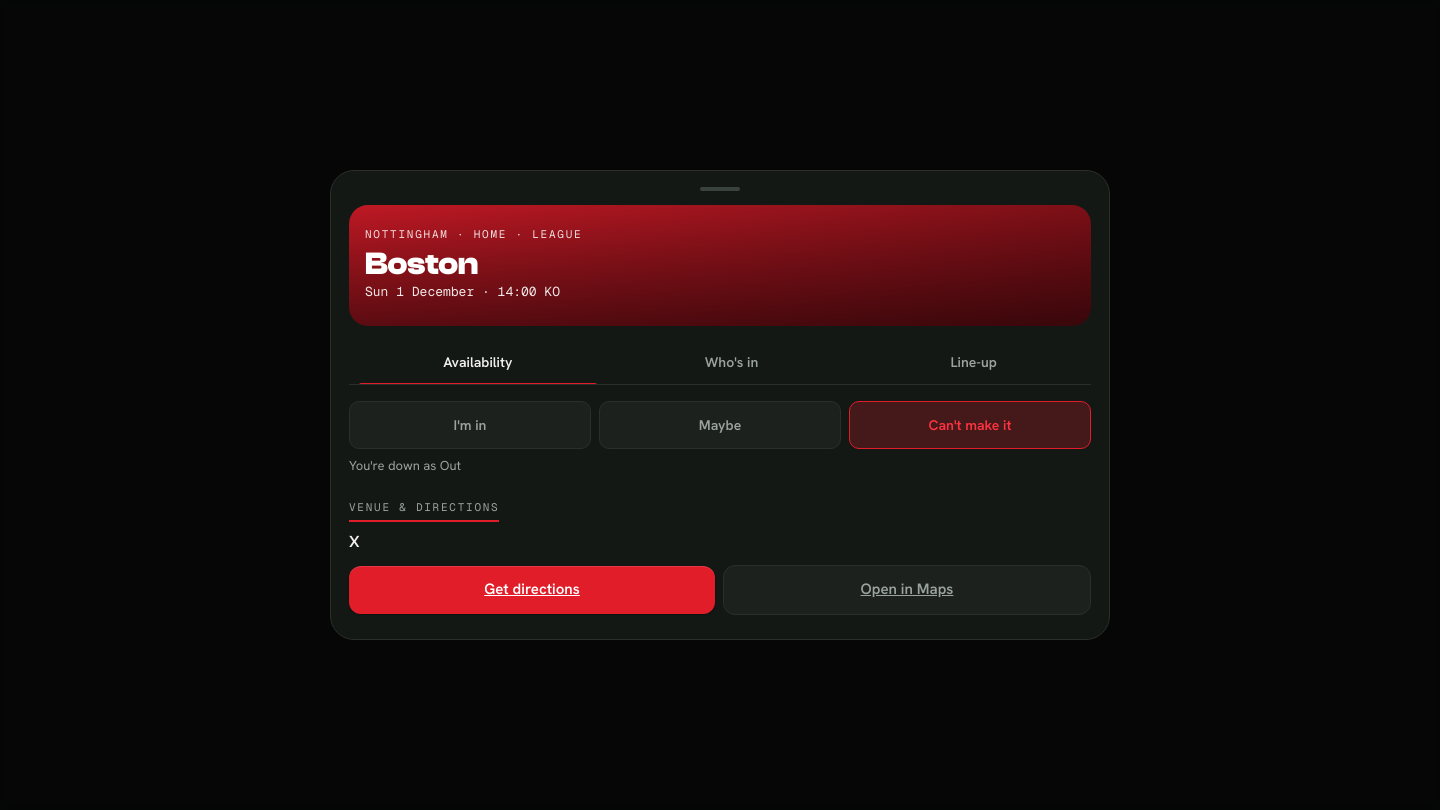
Test: FixtureDetail — Who's in tab › a failed fetch says so — not "Available · 0"
The image size is (1440, 810).
Click the tab "Who's in": (732, 363) [611, 342, 852, 384]
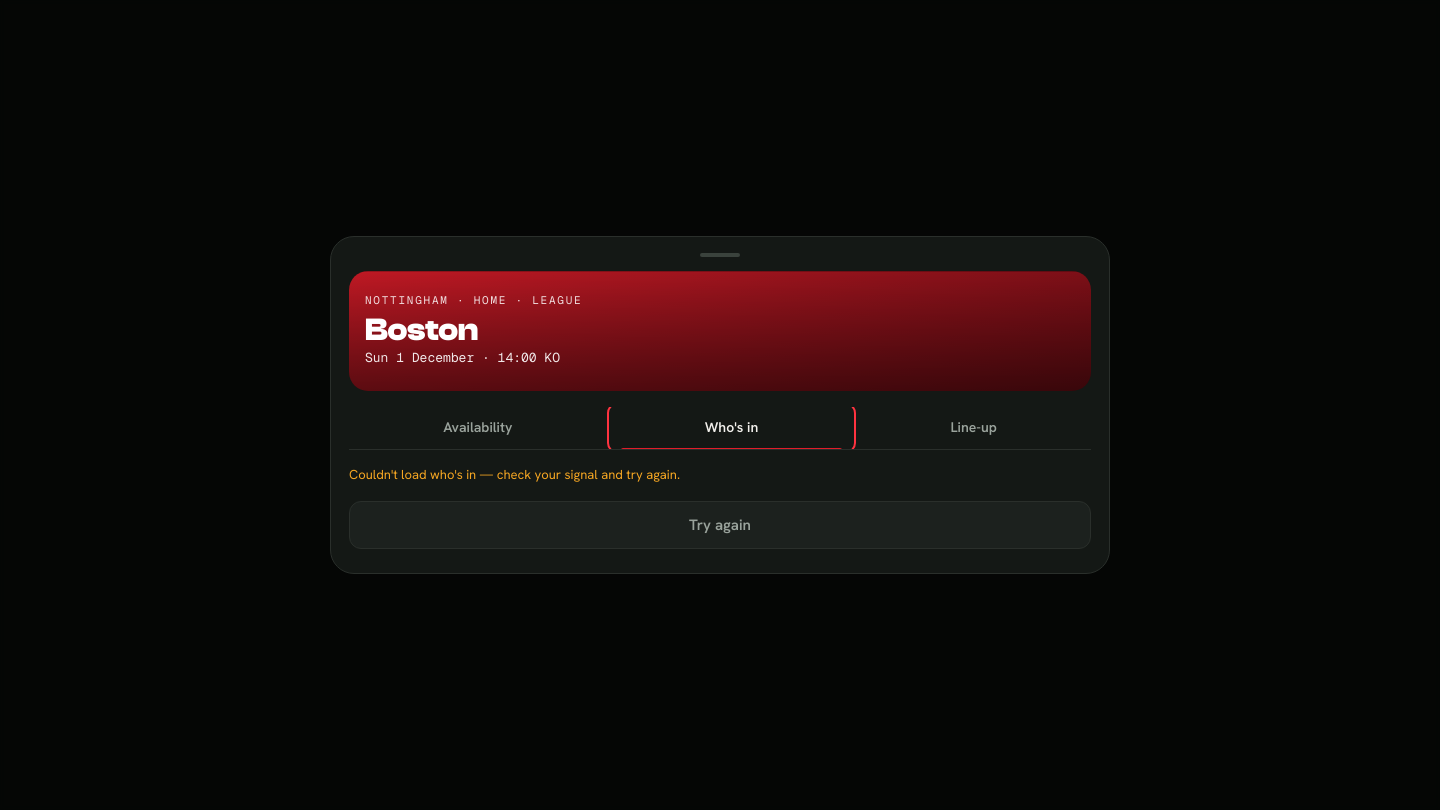
Result: the message "Couldn't load who's in — check your signal and try again." is shown at [349, 466, 680, 484]
Result: the button "Try again" is shown at [349, 501, 1091, 549]
